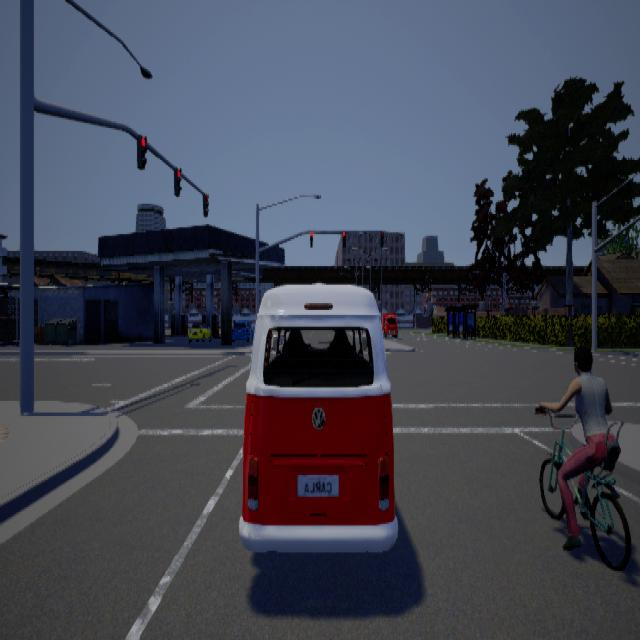bike: (533, 332, 636, 574)
red_light: (138, 133, 148, 168), (175, 165, 183, 195), (204, 192, 210, 216), (381, 229, 385, 246), (310, 230, 313, 248), (344, 230, 346, 247)
vehicle: (233, 281, 399, 551)
